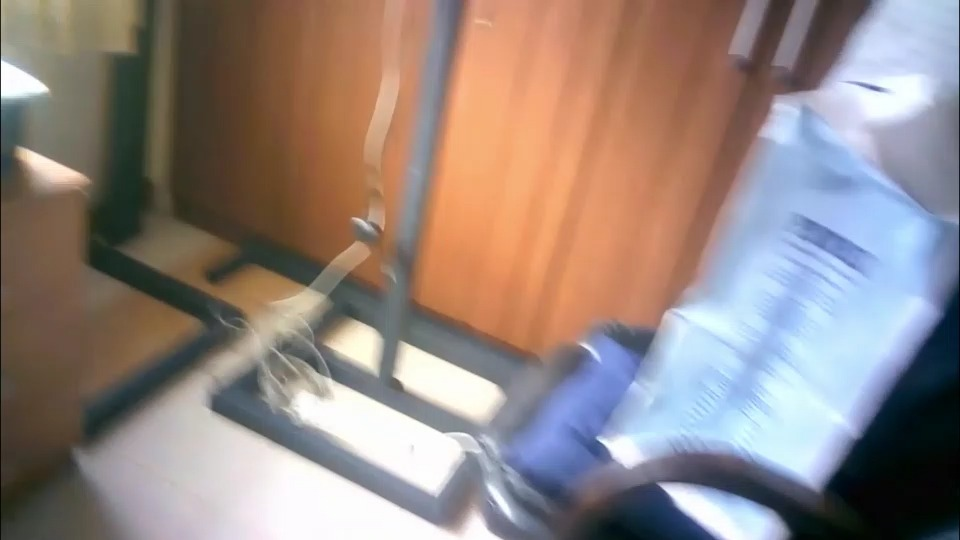wheat_flour_blue_label: (589, 2, 952, 540)
